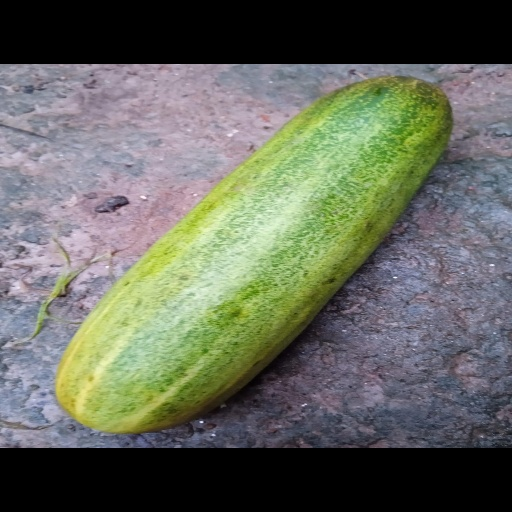concombre: (55, 76, 453, 434)
